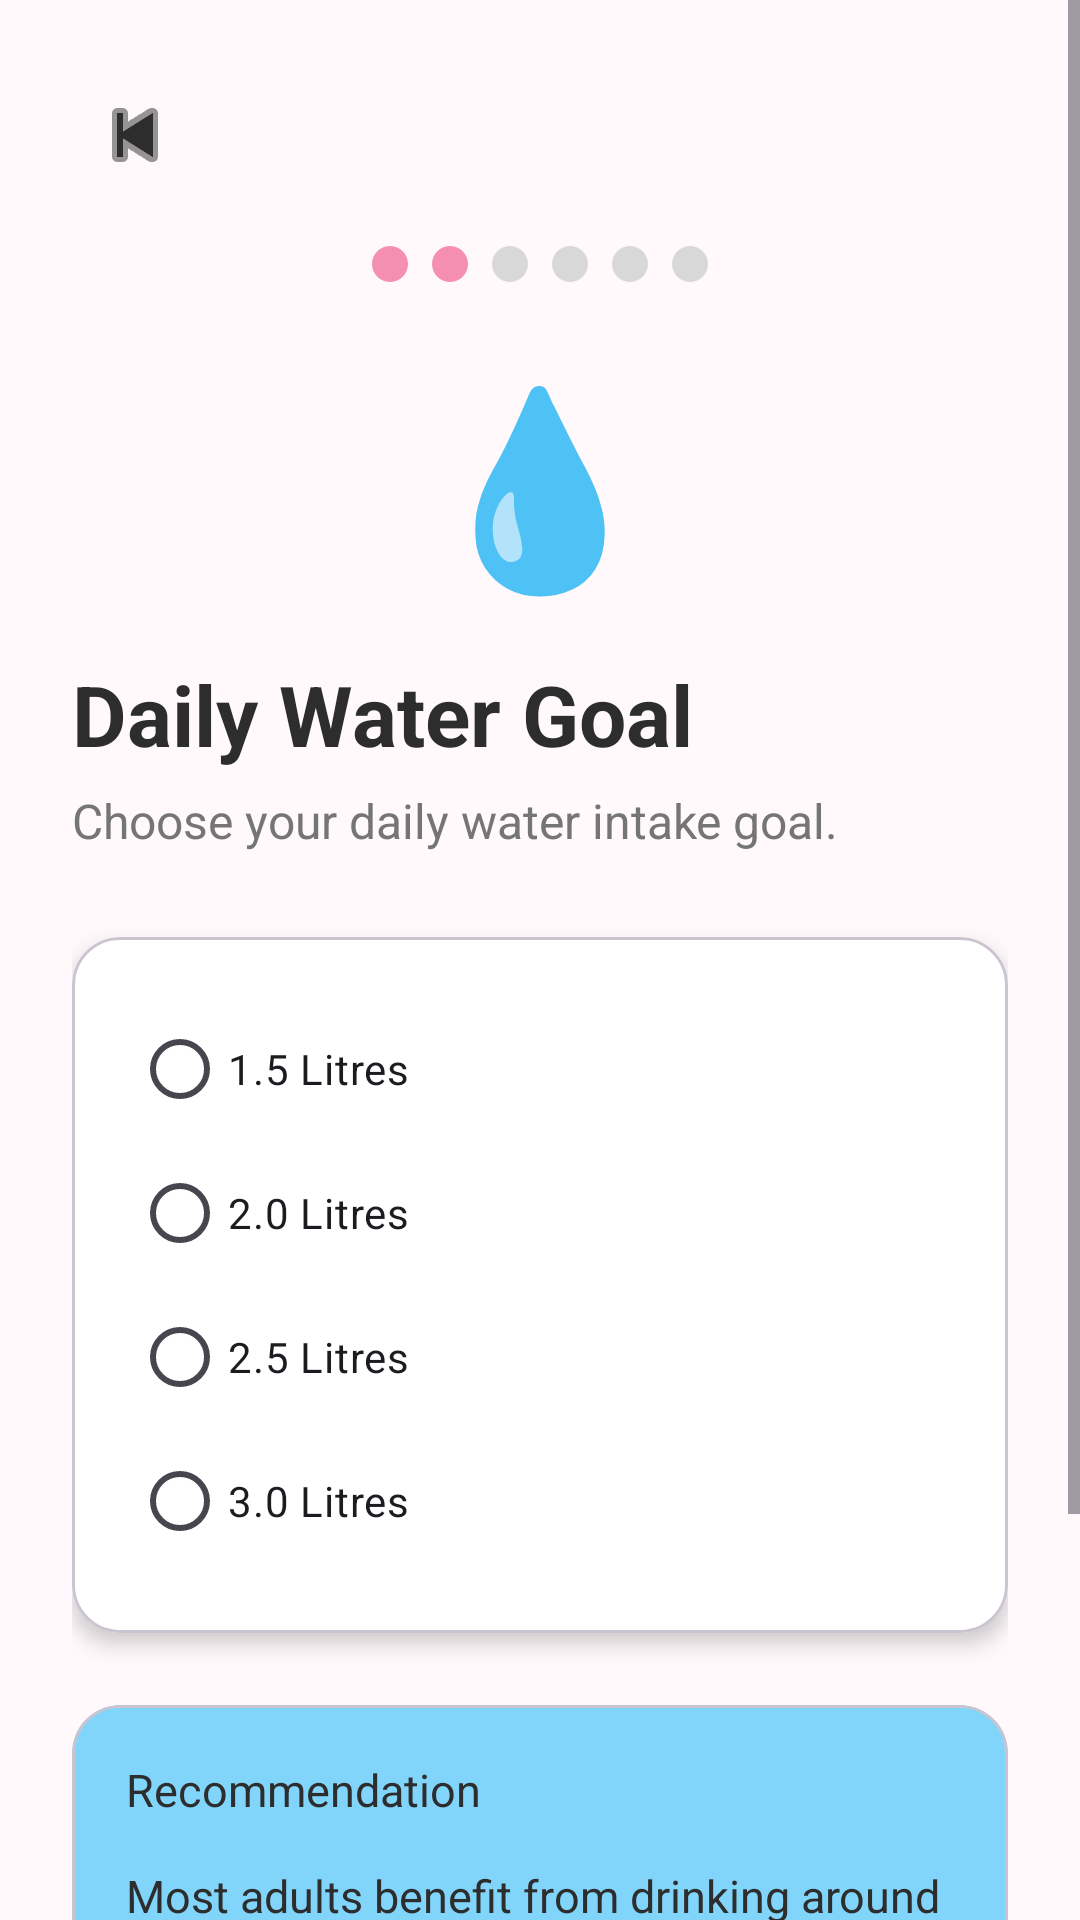

Locate icon controls on the screen. Image size 1080px x 1920px, boxes as [x1,y1,x2,y2].
Back: [112,108,158,162]
